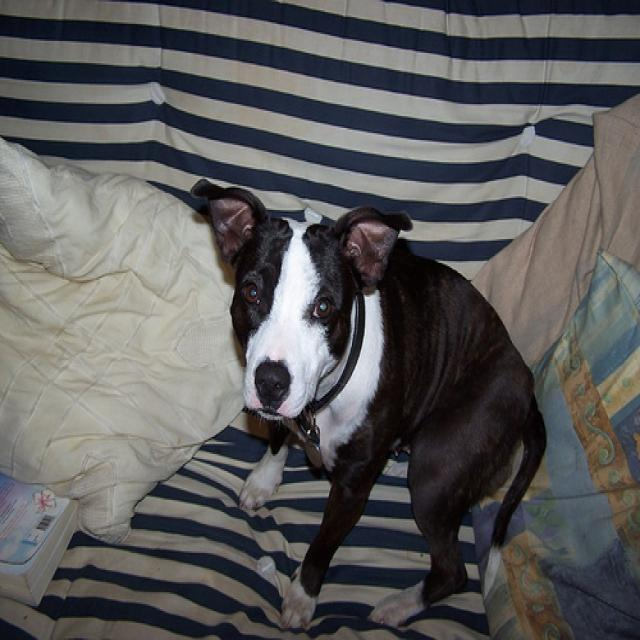dog-staffordshire_bull_terrier: (182, 167, 556, 637)
